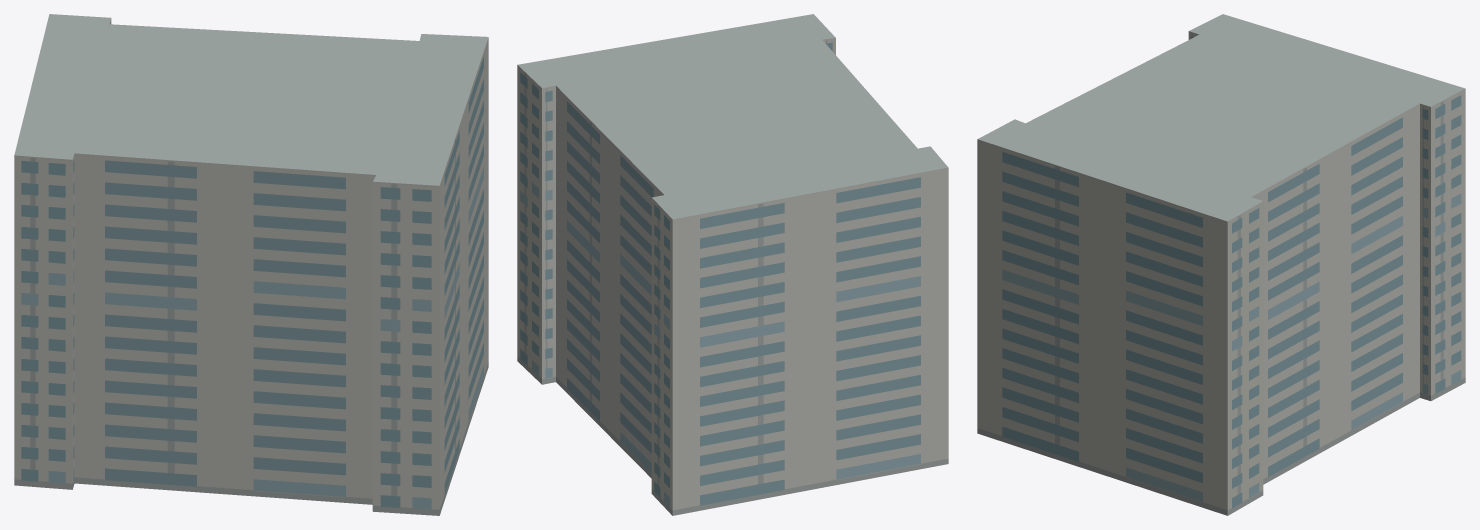
File: survey-upis-32731302.glb
3 views of the same model, side by side, from view 1: azimuth 30°, elevation 25°; view 2: azimuth 150°, elevation 25°; view 3: azimuth 270°, elevation 25° (orthographic). The views are drawn at different scales.
Visible parts, largest first — view 1: survey-upis-32731302.tmp; view 2: survey-upis-32731302.tmp; view 3: survey-upis-32731302.tmp.
Part boxes in pixels (box(x1,y1,x2,y2)): survey-upis-32731302.tmp: box(14, 14, 488, 515); survey-upis-32731302.tmp: box(517, 14, 948, 515); survey-upis-32731302.tmp: box(977, 14, 1465, 515).
Bounding box in the file's own units: 96.07 × 63.5 × 95.43.
